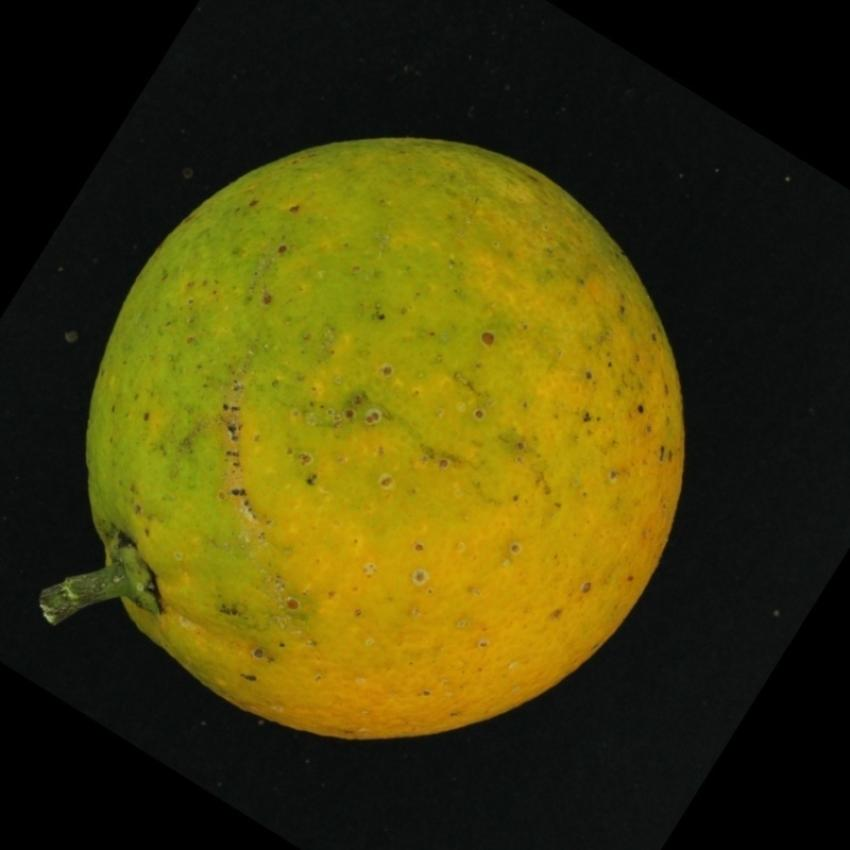Mal estado: (49, 118, 696, 751)
